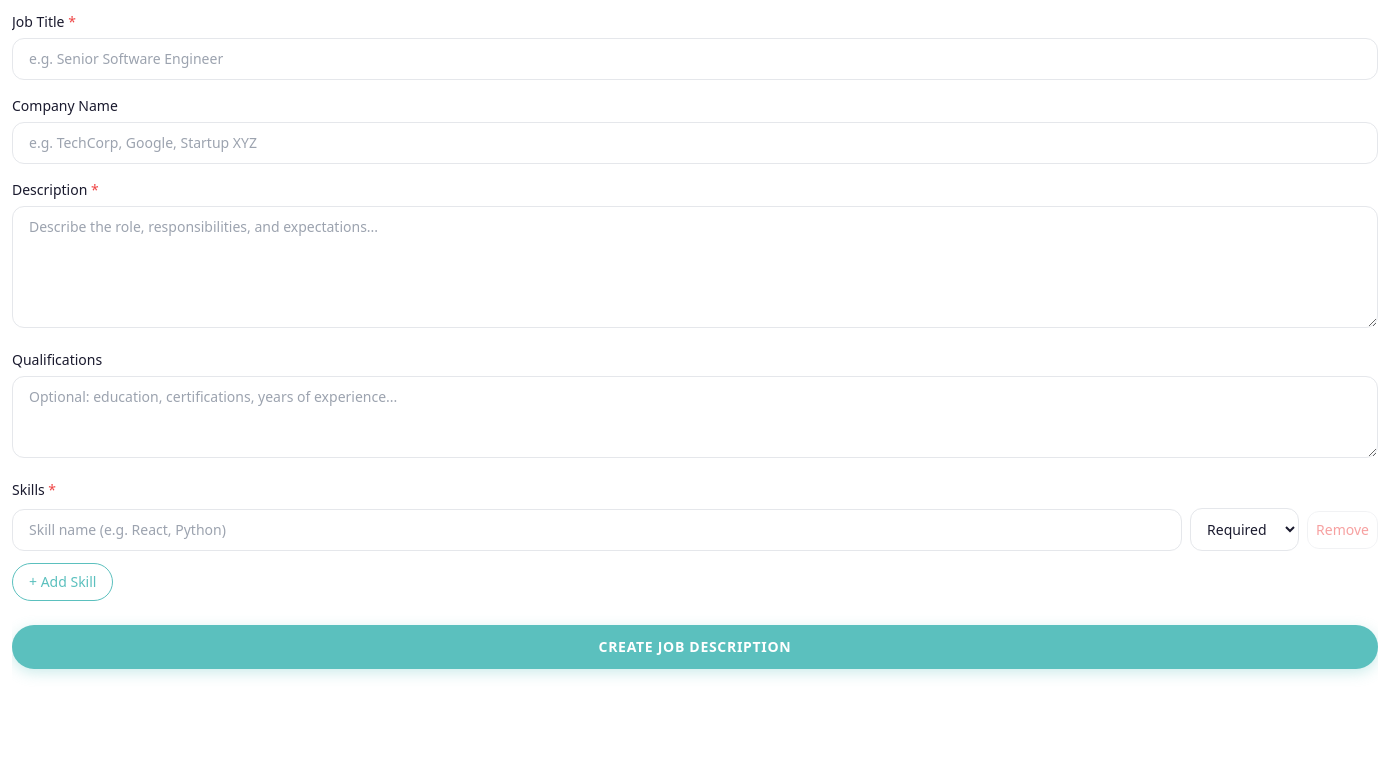
Test: JobDescriptionForm › shows error when user is not authenticated
This screenshot has width=1390, height=780.
In the field labelled "Job Title *": (695, 59) [12,38,1378,80], type "Software Engineer"
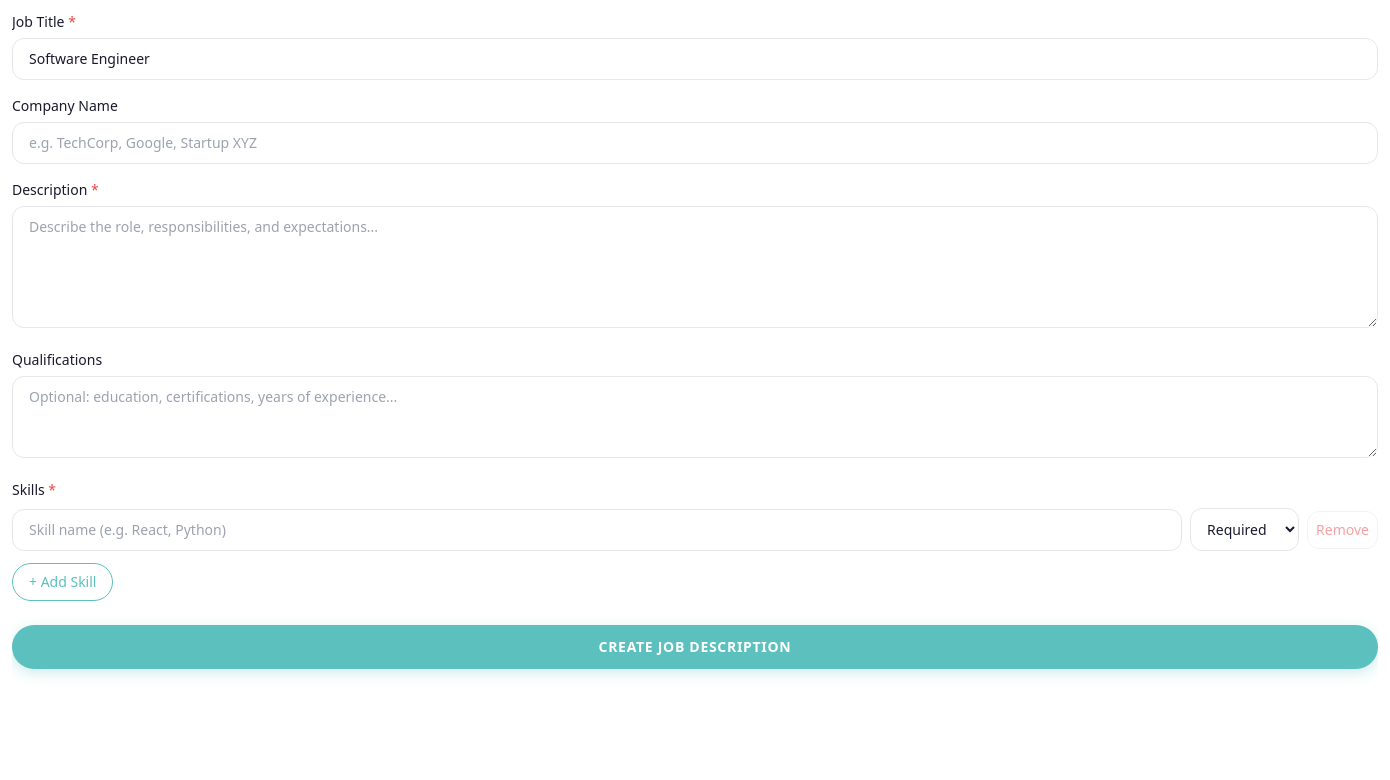
In the text box labelled "Description *": (695, 267) [12,206,1378,328], type "Build great software"
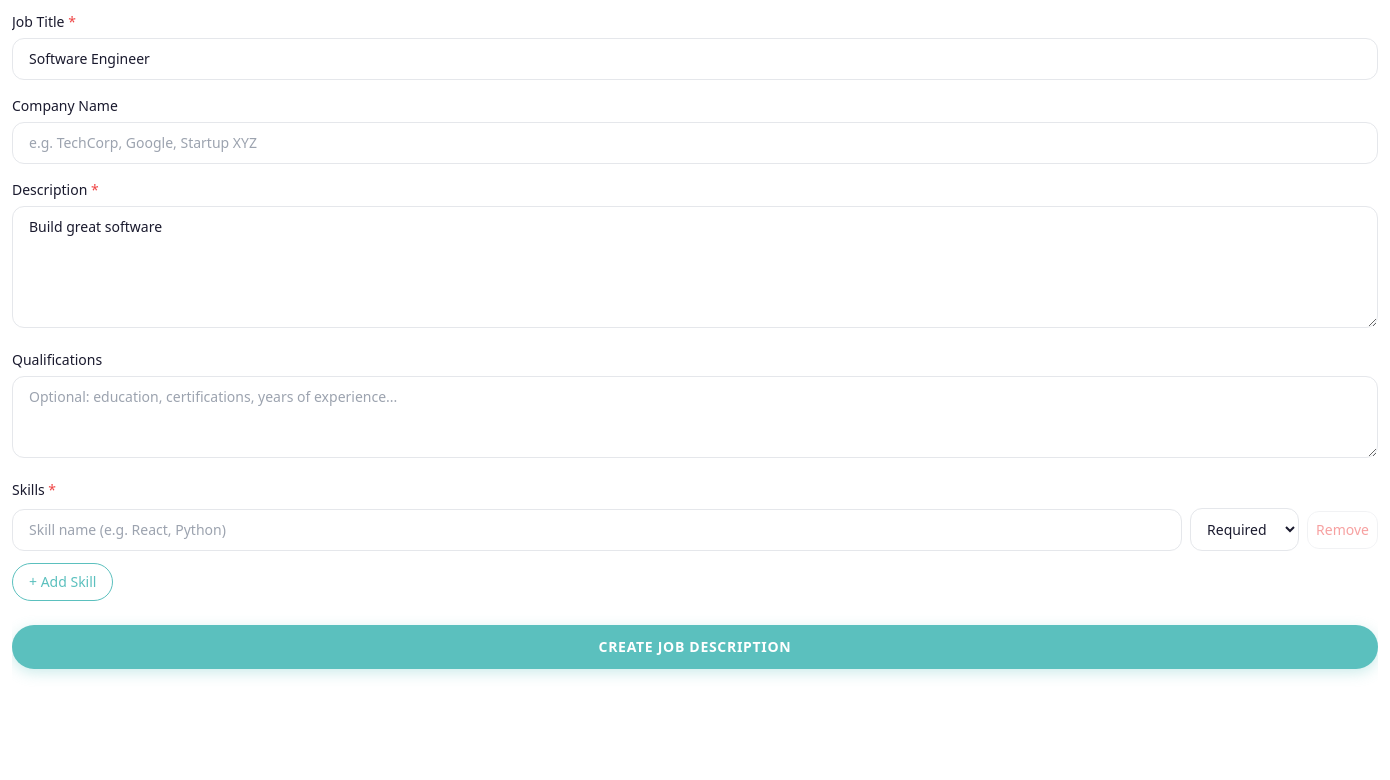
In the field named "Skill 1 name": (597, 530) [12,508,1182,550], type "React"
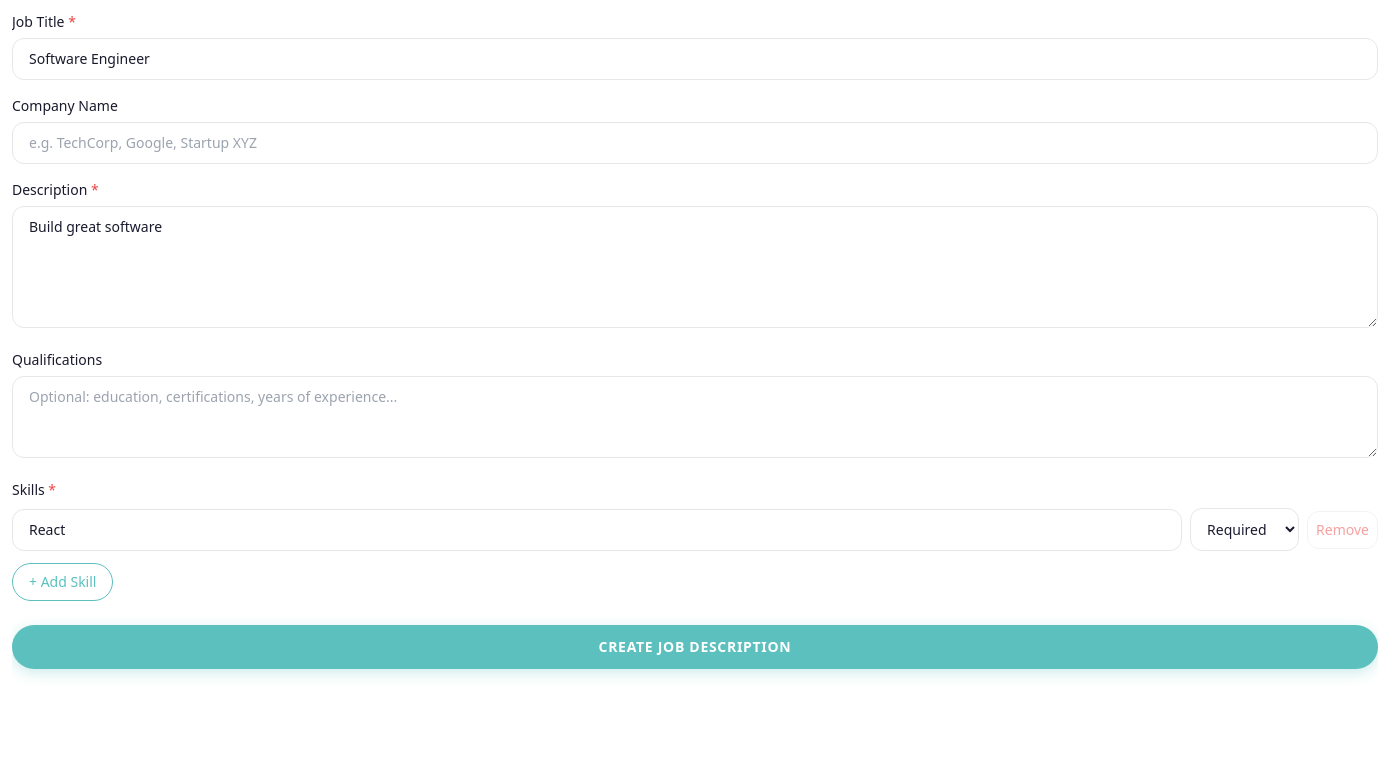
Click the button "Create Job Description": (695, 647) [12,625,1378,669]
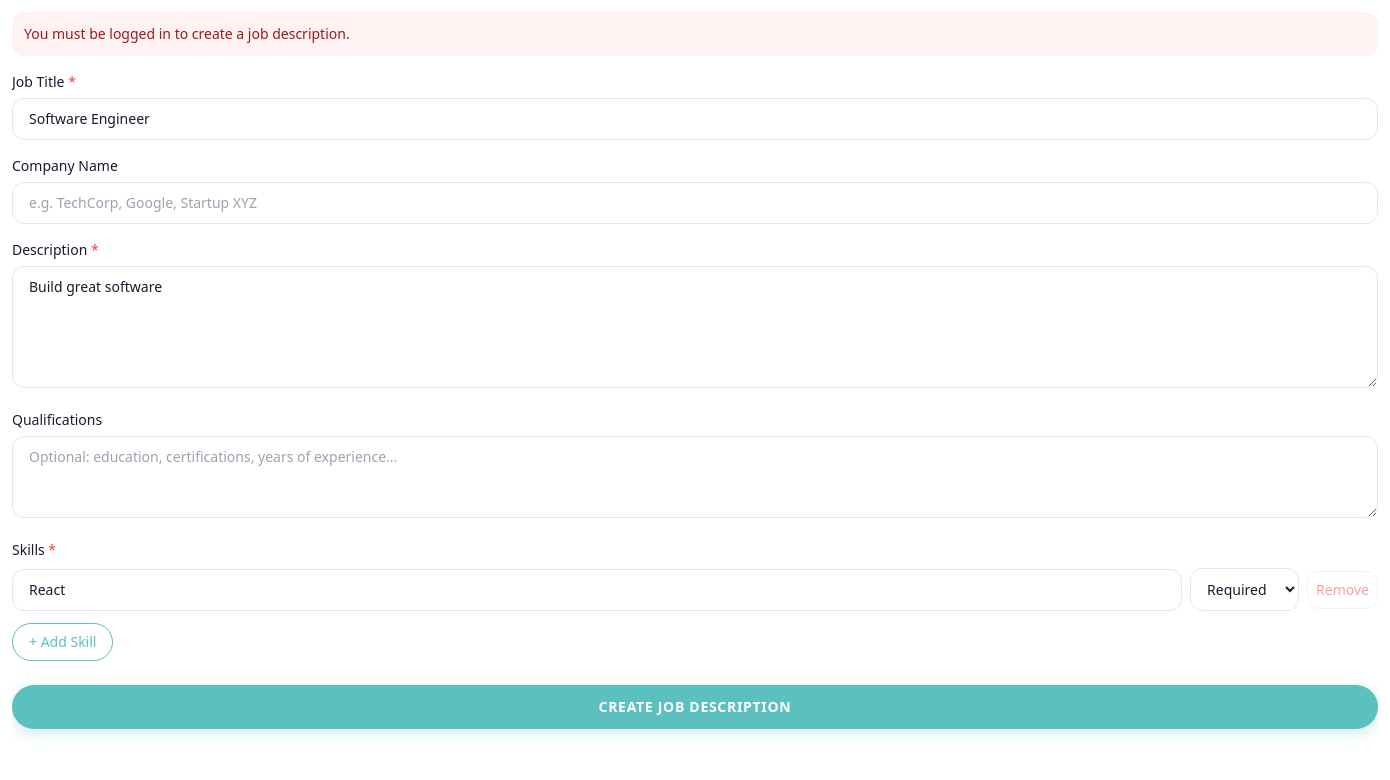
Result: the message reads "You must be logged in to create a job description." at [24,24,350,43]
